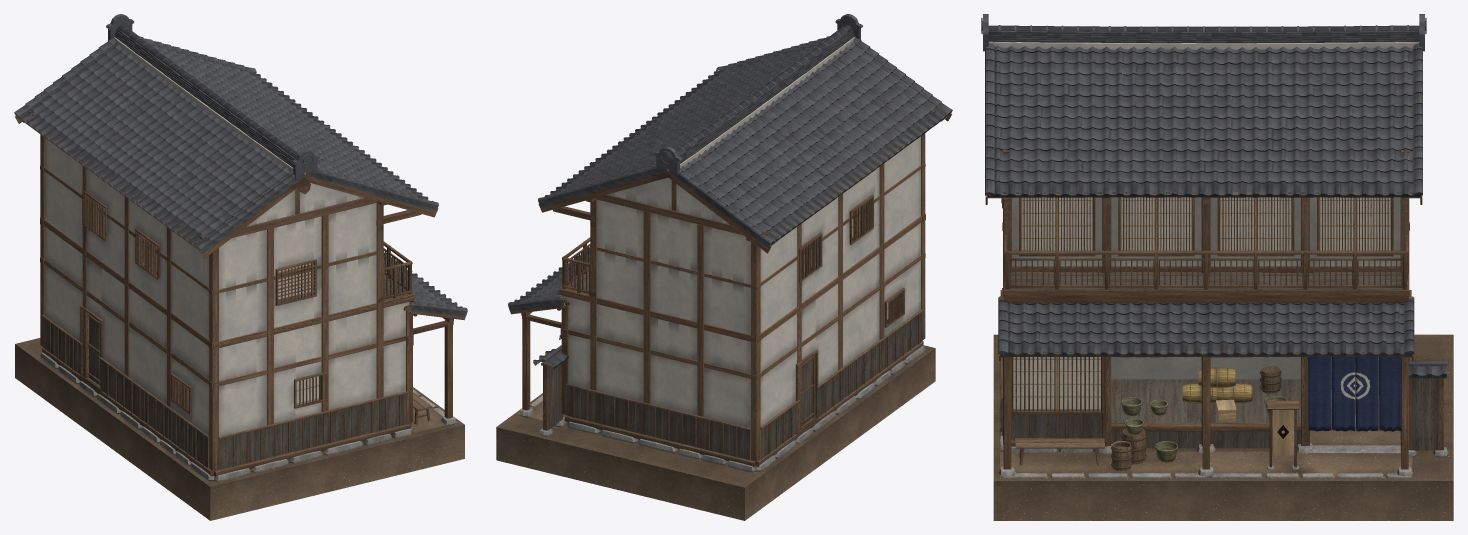
The model's file is machiya_b.glb.
3 views of the same model, side by side, from view 1: azimuth 30°, elevation 25°; view 2: azimuth 150°, elevation 25°; view 3: azimuth 270°, elevation 25° (orthographic). The views are drawn at different scales.
Parts seen in each view (by area): view 1: machiya_b_plaster_white, machiya_b_tile_ibushi, machiya_b_wood_dark, machiya_b_earth_floor, machiya_b_wood_weathered, machiya_b_stone_granite, machiya_b_paper_shoji, machiya_b_tile_manju; view 2: machiya_b_plaster_white, machiya_b_tile_ibushi, machiya_b_wood_dark, machiya_b_earth_floor, machiya_b_wood_weathered, machiya_b_stone_granite, machiya_b_tile_manju; view 3: machiya_b_tile_ibushi, machiya_b_wood_dark, machiya_b_earth_floor, machiya_b_wood_weathered, machiya_b_paper_shoji, machiya_b_plaster_white, machiya_b_noren_b, machiya_b_stone_granite, machiya_b_wood_fresh, machiya_b_plaster_white#0.7, machiya_b_wood_aged, machiya_b_straw (+3 smaller).
Boxes of the visible parts, bbox=[...] form: machiya_b_plaster_white: bbox=[45, 37, 410, 436]; machiya_b_tile_ibushi: bbox=[14, 14, 467, 316]; machiya_b_wood_dark: bbox=[15, 66, 465, 476]; machiya_b_earth_floor: bbox=[15, 338, 464, 520]; machiya_b_wood_weathered: bbox=[17, 63, 410, 469]; machiya_b_stone_granite: bbox=[40, 352, 456, 481]; machiya_b_paper_shoji: bbox=[98, 211, 318, 405]; machiya_b_tile_manju: bbox=[15, 72, 462, 307]; machiya_b_plaster_white: bbox=[564, 36, 920, 428]; machiya_b_tile_ibushi: bbox=[508, 14, 952, 369]; machiya_b_wood_dark: bbox=[510, 56, 951, 467]; machiya_b_earth_floor: bbox=[496, 345, 935, 520]; machiya_b_wood_weathered: bbox=[533, 47, 949, 460]; machiya_b_stone_granite: bbox=[518, 346, 925, 472]; machiya_b_tile_manju: bbox=[514, 71, 947, 368]; machiya_b_tile_ibushi: bbox=[981, 14, 1447, 378]; machiya_b_wood_dark: bbox=[985, 53, 1443, 469]; machiya_b_earth_floor: bbox=[993, 334, 1453, 520]; machiya_b_wood_weathered: bbox=[988, 52, 1438, 450]; machiya_b_paper_shoji: bbox=[1013, 112, 1390, 409]; machiya_b_plaster_white: bbox=[988, 41, 1419, 272]; machiya_b_noren_b: bbox=[1308, 356, 1401, 431]; machiya_b_stone_granite: bbox=[999, 361, 1448, 478]; machiya_b_wood_fresh: bbox=[1013, 197, 1390, 455]; machiya_b_plaster_white#0.7: bbox=[1111, 356, 1379, 403]; machiya_b_wood_aged: bbox=[1015, 365, 1280, 471]; machiya_b_straw: bbox=[1182, 367, 1252, 403].
Size of the model in its own units: 7.5 by 9.16 by 9.5.
Materials: 14 (13 with a texture image).
